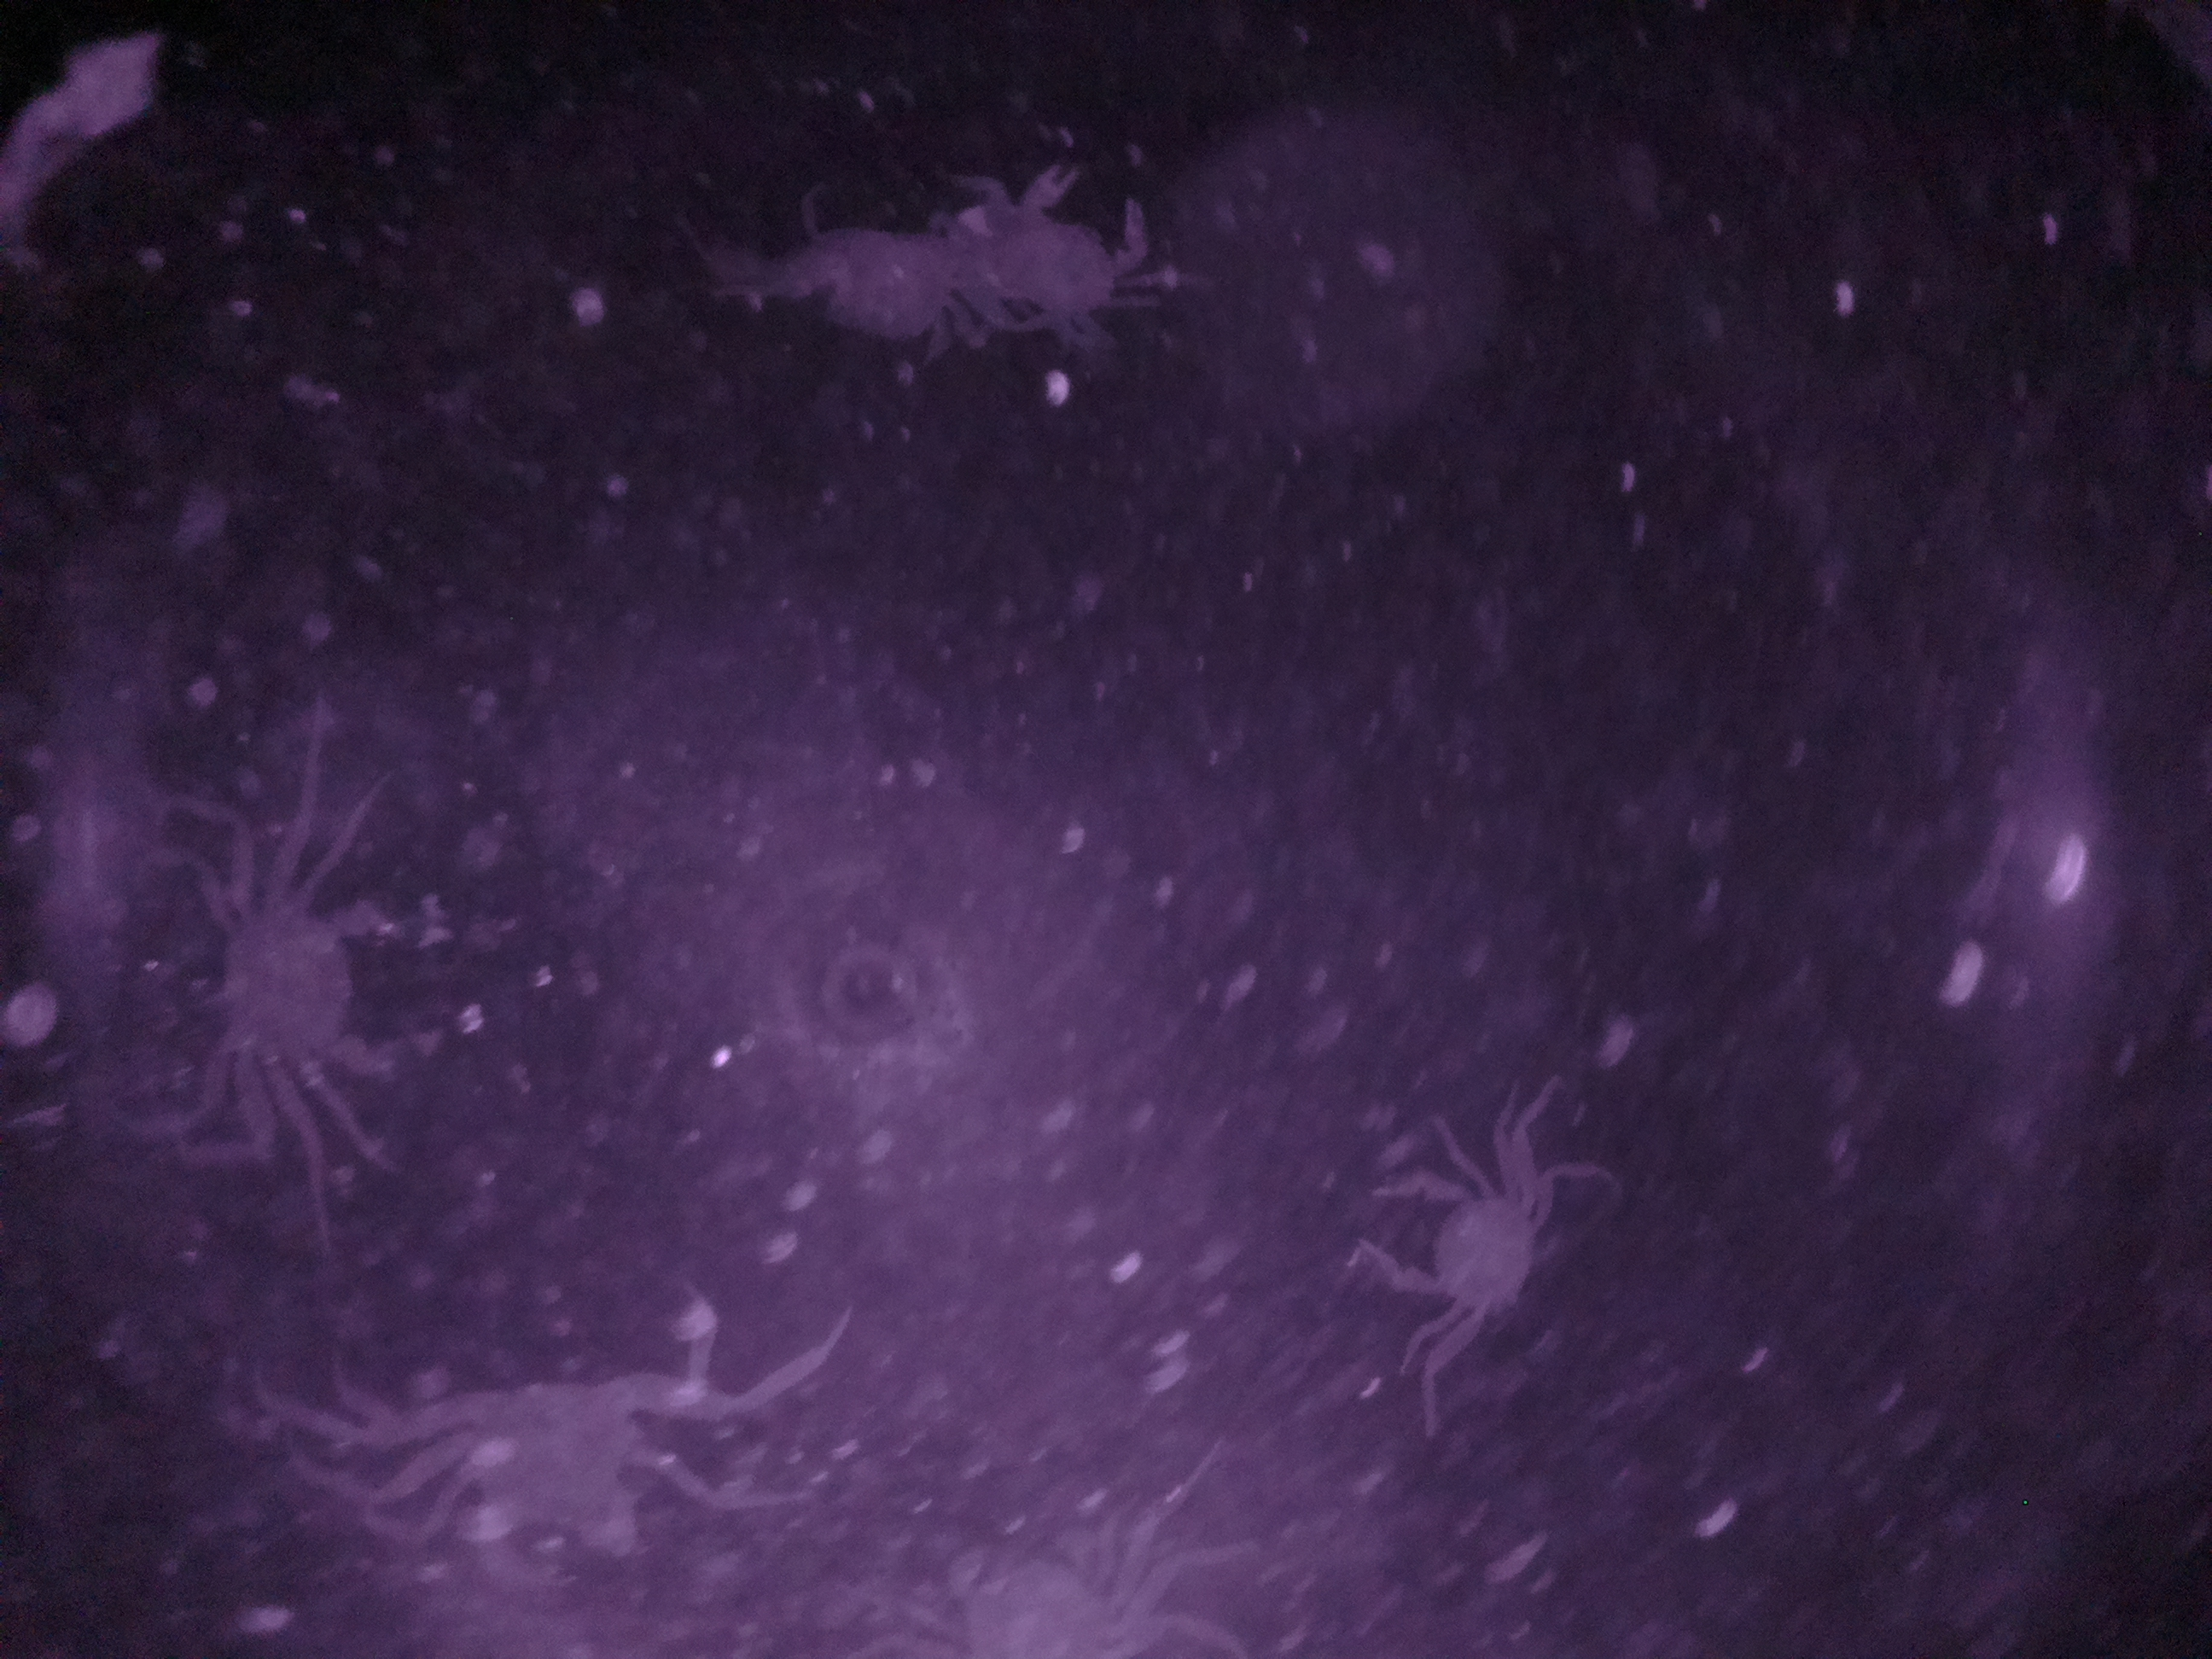Crab: (167, 859, 514, 1136), (1343, 1129, 1559, 1352)
